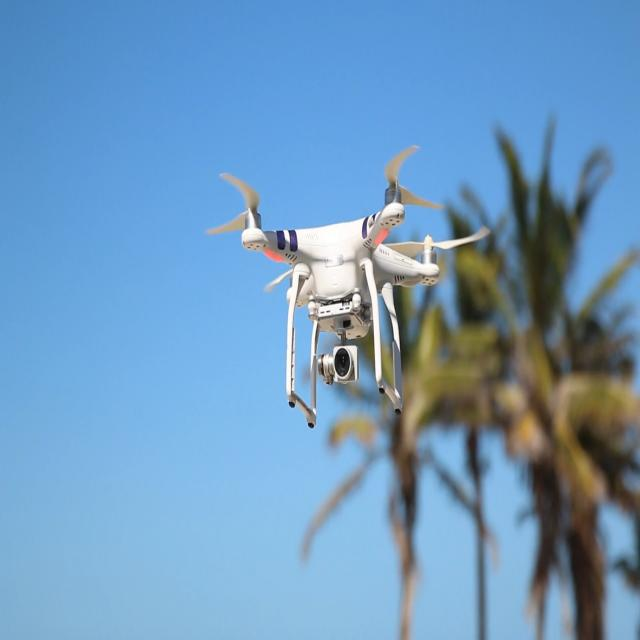Drone: (183, 146, 482, 417)
